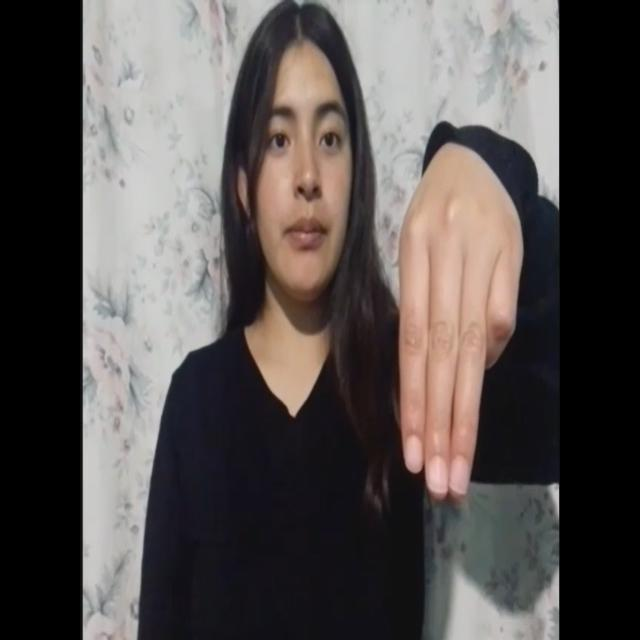M: (384, 125, 527, 507)
